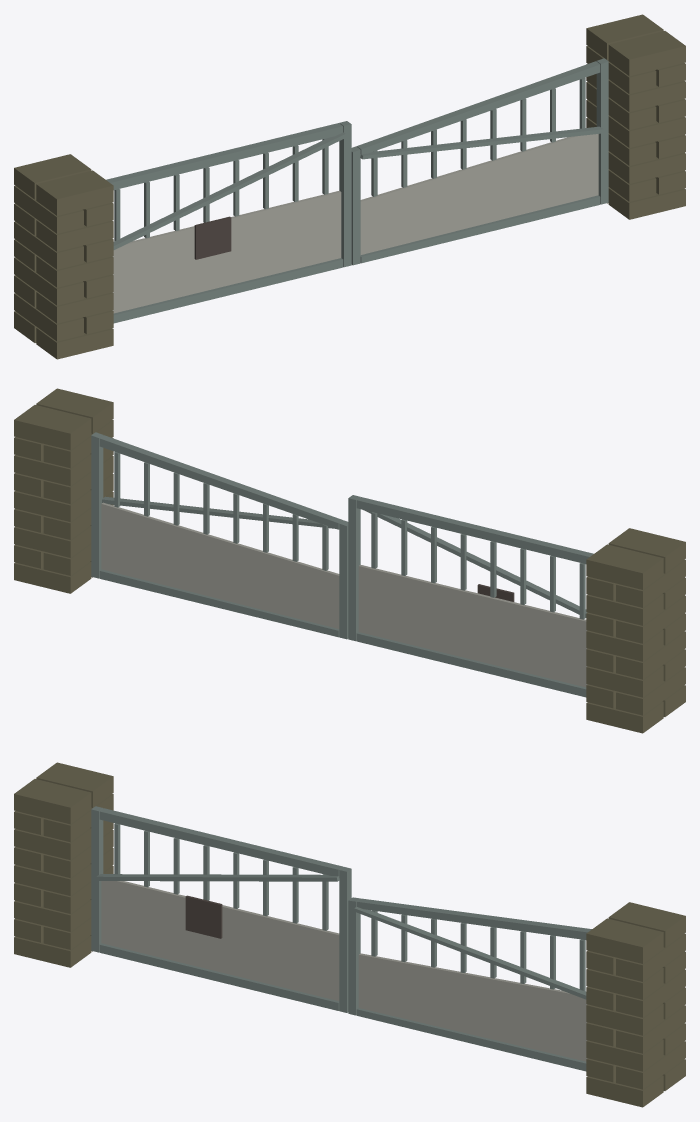
The model's file is SM_PuertaVehiculos_v0_TuboChapa_e1_Danado_LOD0.fbx.
3 views of the same model, one above another, from view 1: azimuth 30°, elevation 25°; view 2: azimuth 150°, elevation 25°; view 3: azimuth 330°, elevation 25° (orthographic).
Visible parts, largest first — view 1: SM_bloques.puerta_estados_v1_LOD0, Hoja_O, Hoja_E; view 2: SM_bloques.puerta_estados_v1_LOD0, Hoja_O, Hoja_E; view 3: SM_bloques.puerta_estados_v1_LOD0, Hoja_O, Hoja_E.
Part boxes in pixels (x1,y1,x2,y2): SM_bloques.puerta_estados_v1_LOD0: [14, 14, 685, 359]; Hoja_O: [106, 121, 351, 323]; Hoja_E: [351, 58, 608, 265]; SM_bloques.puerta_estados_v1_LOD0: [14, 388, 685, 733]; Hoja_O: [348, 495, 593, 697]; Hoja_E: [91, 432, 348, 639]; SM_bloques.puerta_estados_v1_LOD0: [14, 762, 685, 1107]; Hoja_O: [91, 806, 351, 1012]; Hoja_E: [348, 897, 591, 1071].
Bounding box in the file's own units: 9.78 × 2.38 × 1.16.
